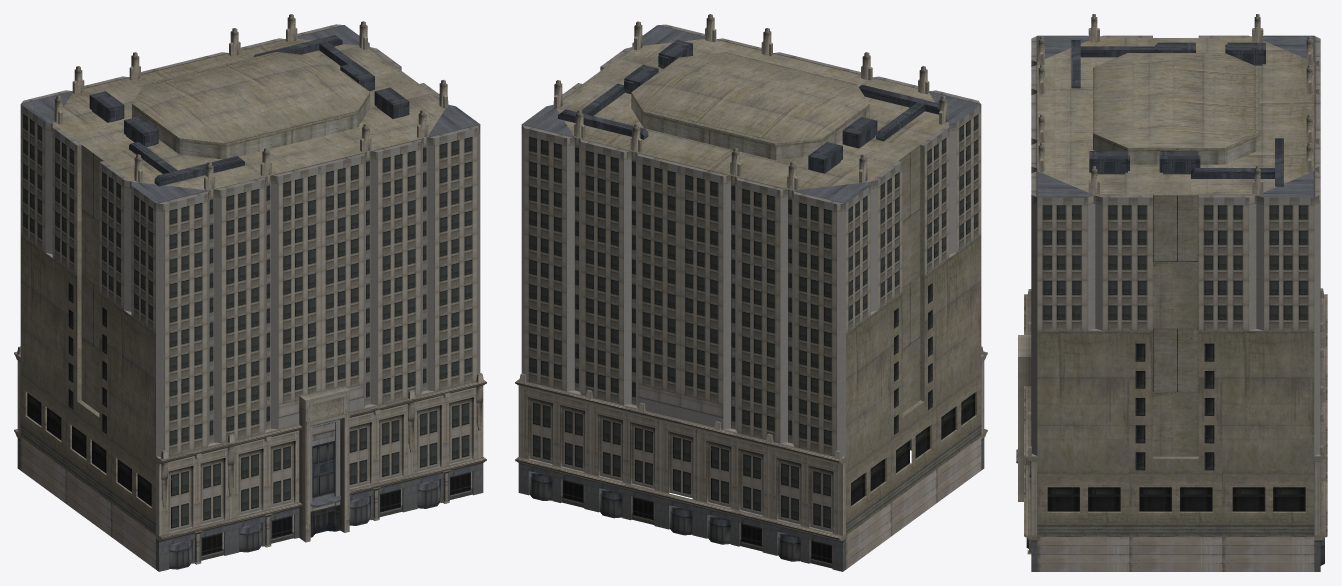
File: tutorial_building4.gltf
3 views of the same model, side by side, from view 1: azimuth 30°, elevation 25°; view 2: azimuth 150°, elevation 25°; view 3: azimuth 270°, elevation 25° (orthographic). The views are drawn at different scales.
Parts seen in each view (by area): view 1: building4; view 2: building4; view 3: building4.
Boxes of the visible parts, bbox=[...] form: building4: bbox=[14, 14, 486, 571]; building4: bbox=[515, 14, 987, 571]; building4: bbox=[1016, 14, 1327, 571].
Bounding box in the file's own units: 39.63 × 45.82 × 32.23.
3 materials, 3 textured.
